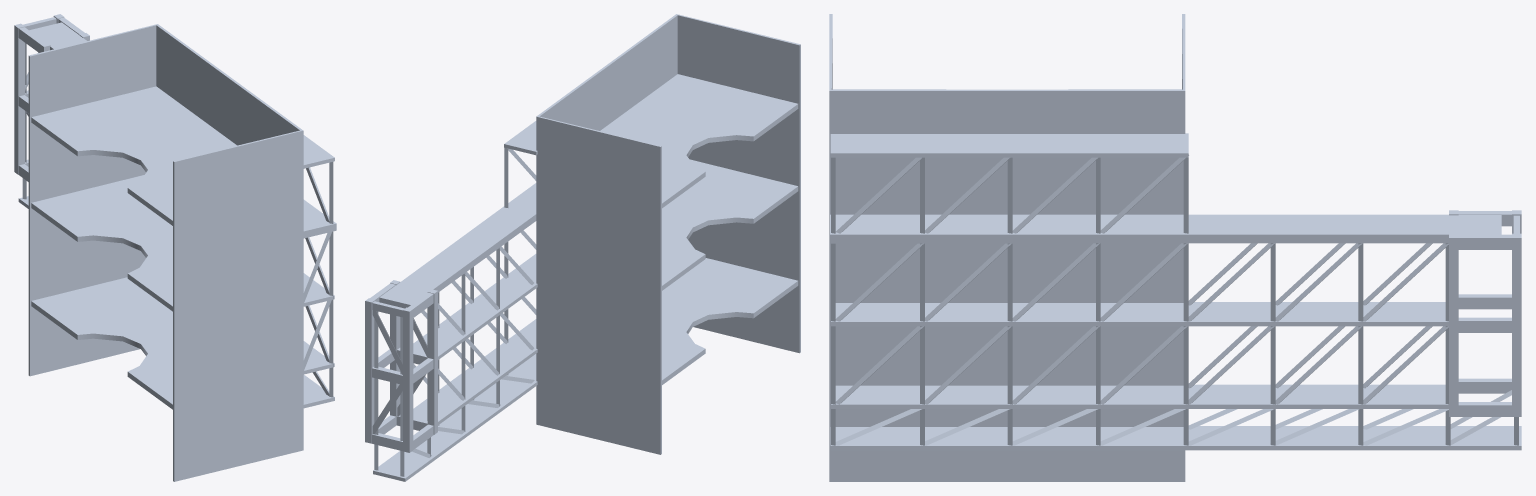
Rendered from FaSheTa-Bi03.FBX.
3 views of the same model, side by side, from view 1: azimuth 30°, elevation 25°; view 2: azimuth 150°, elevation 25°; view 3: azimuth 270°, elevation 25° (orthographic). The views are drawn at different scales.
Visible parts, largest first — view 1: FaSheTa-Bi03; view 2: FaSheTa-Bi03; view 3: FaSheTa-Bi03.
Part boxes in pixels (x1=…): FaSheTa-Bi03: x1=14, y1=14, x2=336, y2=481; FaSheTa-Bi03: x1=365, y1=14, x2=800, y2=481; FaSheTa-Bi03: x1=829, y1=14, x2=1521, y2=481.
Bounding box in the file's own units: 39.93 × 72.03 × 116.
